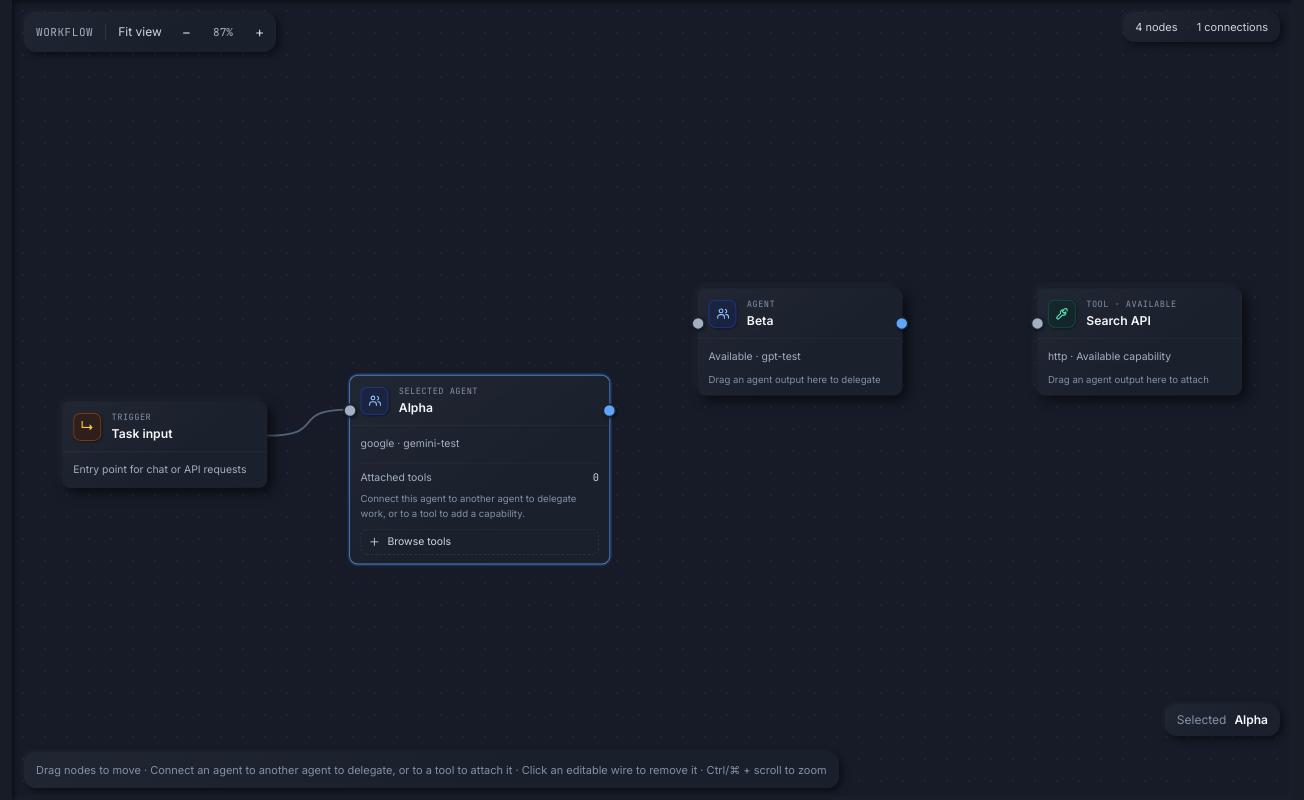
Test: WorkflowCanvas editing › connects an agent output to another agent input through real delegation state
This screenshot has width=1304, height=800.
Press the mouse on the button named "Connect from Alpha" at point(609, 410), box [602, 404, 616, 417]
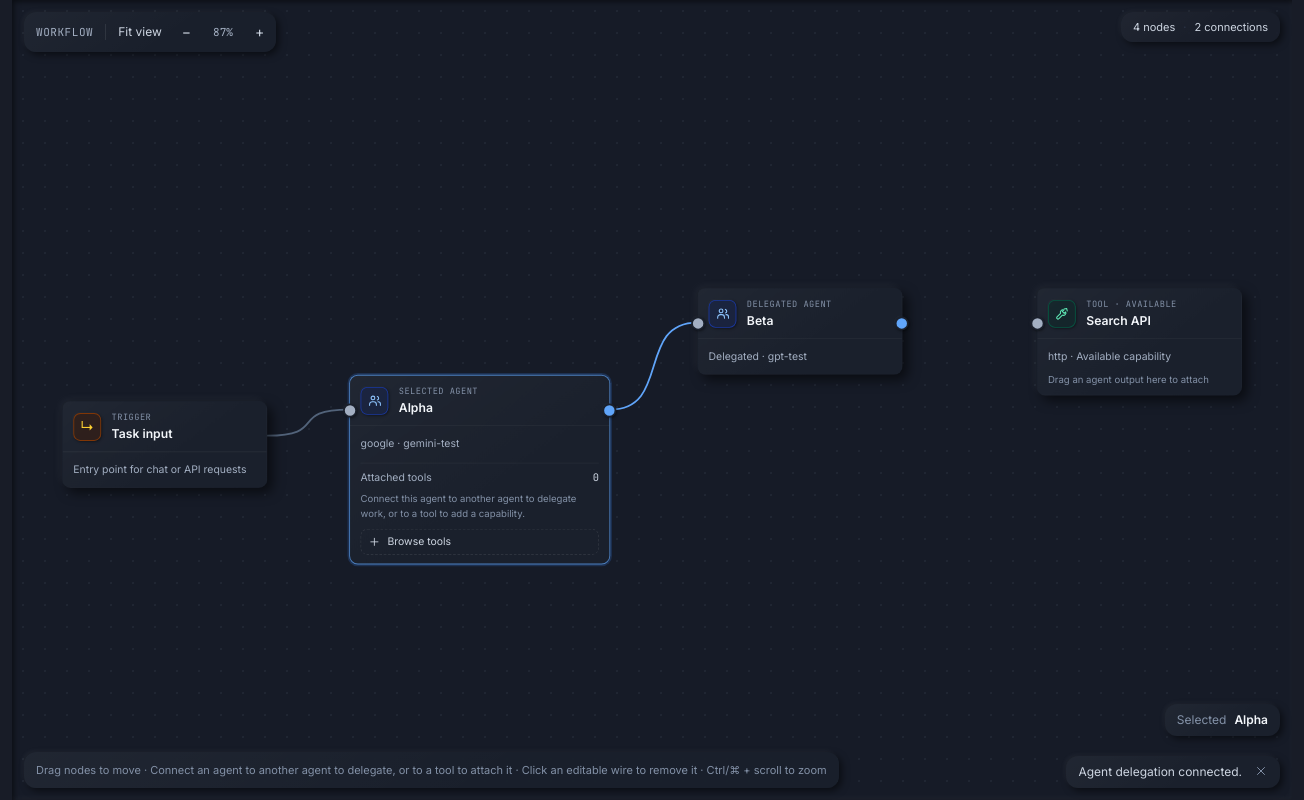
Expected: the button "Remove connection from Alpha to Beta" is shown, [610, 323, 697, 410]
Now the message reads "Agent delegation connected.", box [1078, 764, 1242, 779]
